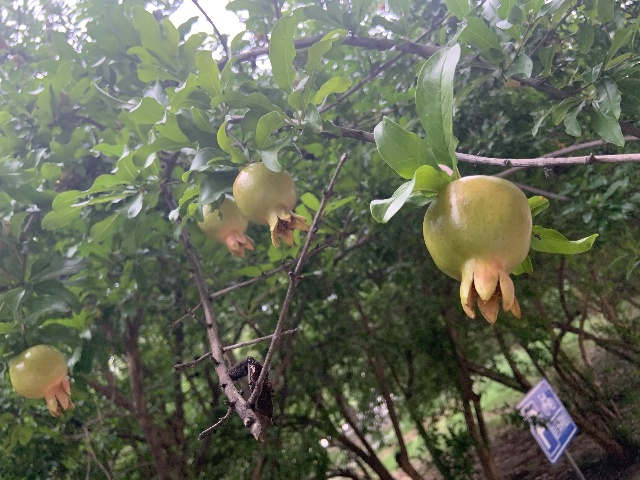mid-growth: (422, 174, 533, 324), (232, 161, 309, 249), (9, 343, 73, 416), (196, 193, 254, 259)
